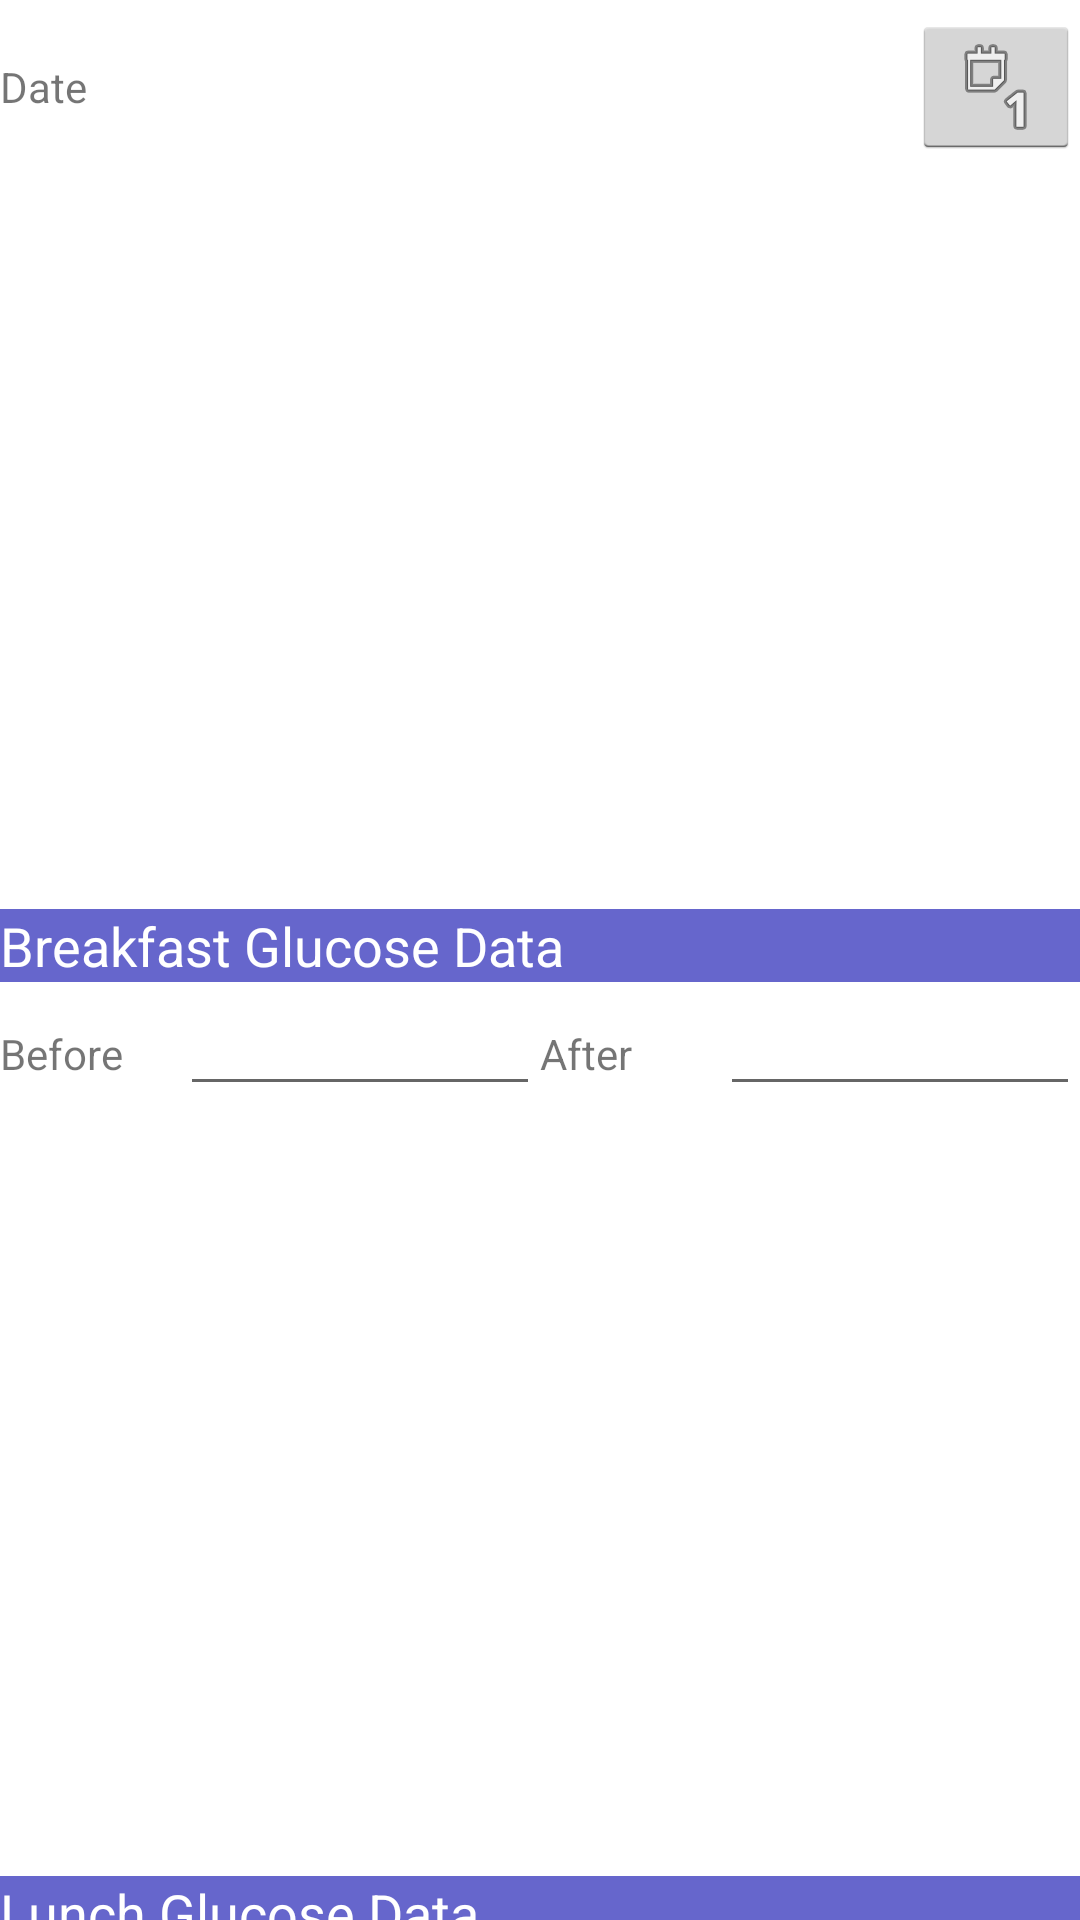

Locate icon controls on the screen. Image size 1080*1920, boxes as (x1, y1, x2, y2).
day: (924, 28, 1068, 148)
